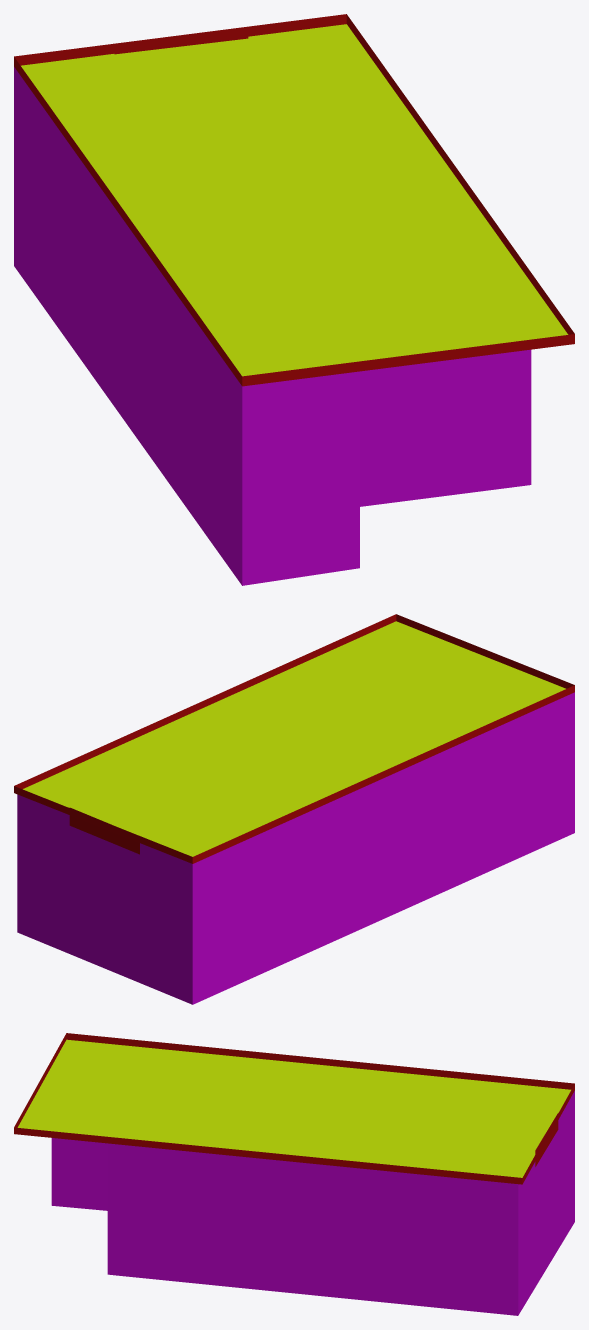
File: bgj_410.glb
3 renders of one model, top to bottom at view 1: azimuth 30°, elevation 25°; view 2: azimuth 150°, elevation 25°; view 3: azimuth 270°, elevation 25°, orthographic. The views are drawn at different scales.
Visible parts, largest first — view 1: bgj_410; view 2: bgj_410; view 3: bgj_410.
Part boxes in pixels (left/top/right/bottom): bgj_410: left=14, top=14, right=574, bottom=585; bgj_410: left=14, top=614, right=574, bottom=1004; bgj_410: left=14, top=1033, right=574, bottom=1315.
Size of the model in its own units: 16.36 by 7.29 by 26.77.
